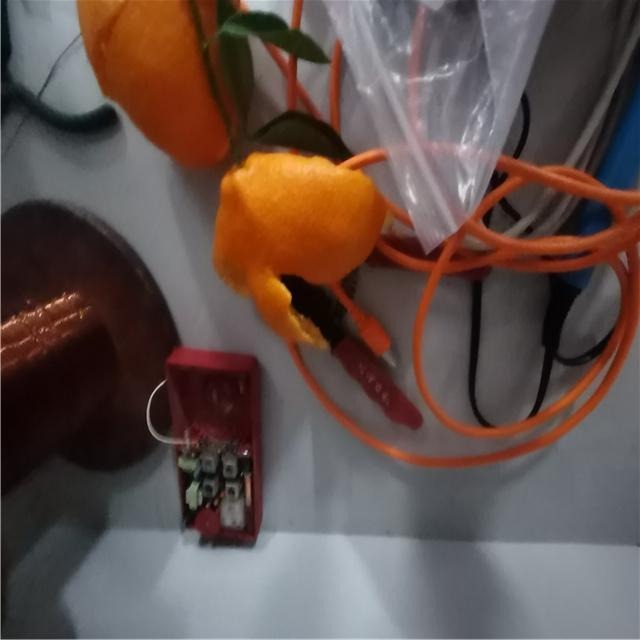orange peel: (207, 156, 393, 352), (71, 4, 234, 162)
